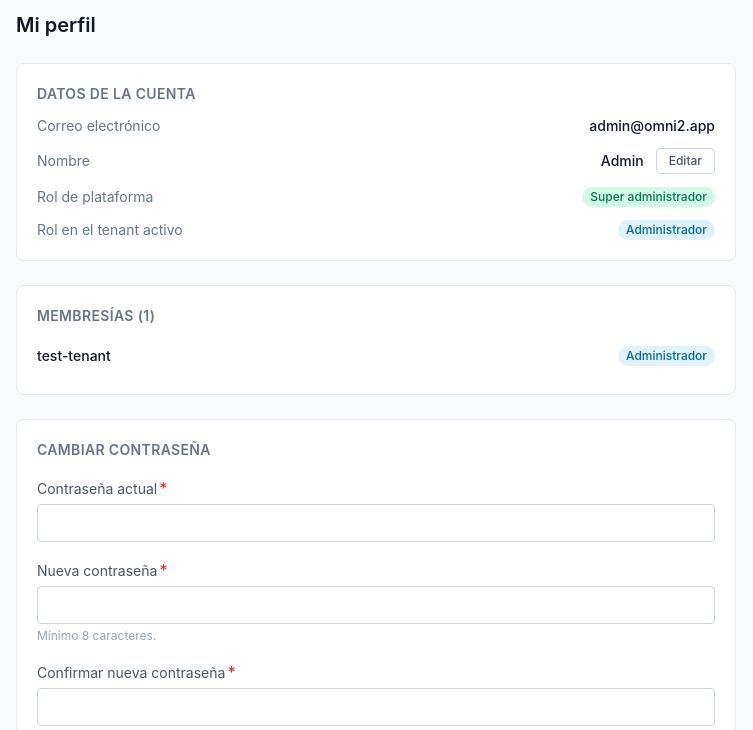
Test case: ProfileSection › muestra el error del store cuando updateMe no puede actualizar
Click the button "Editar".
click(685, 161)  # box x1=656 y1=148 x2=715 y2=174
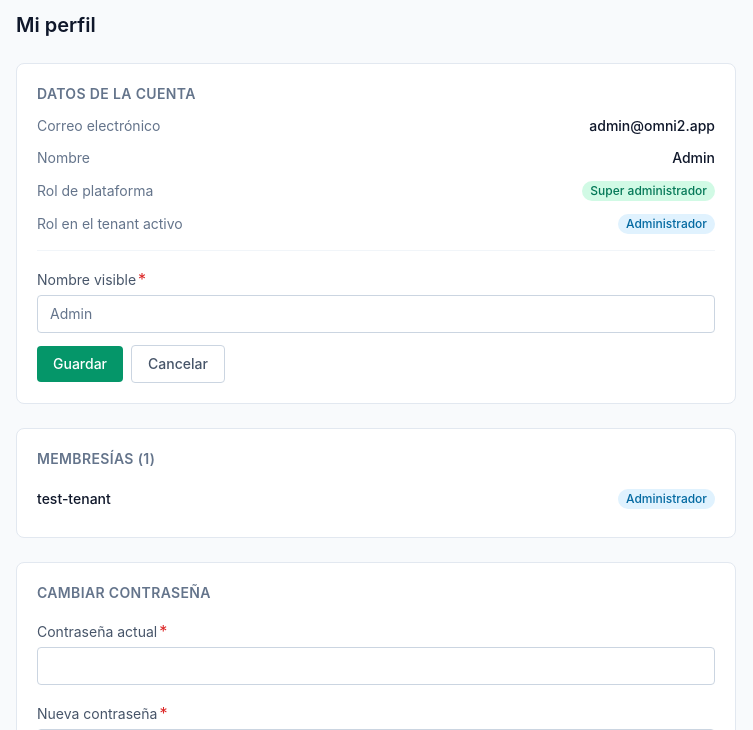
Replace the text in the field labelled "Nombre visible" with "Otro Nombre" at [376, 314], box x1=37 y1=295 x2=715 y2=333
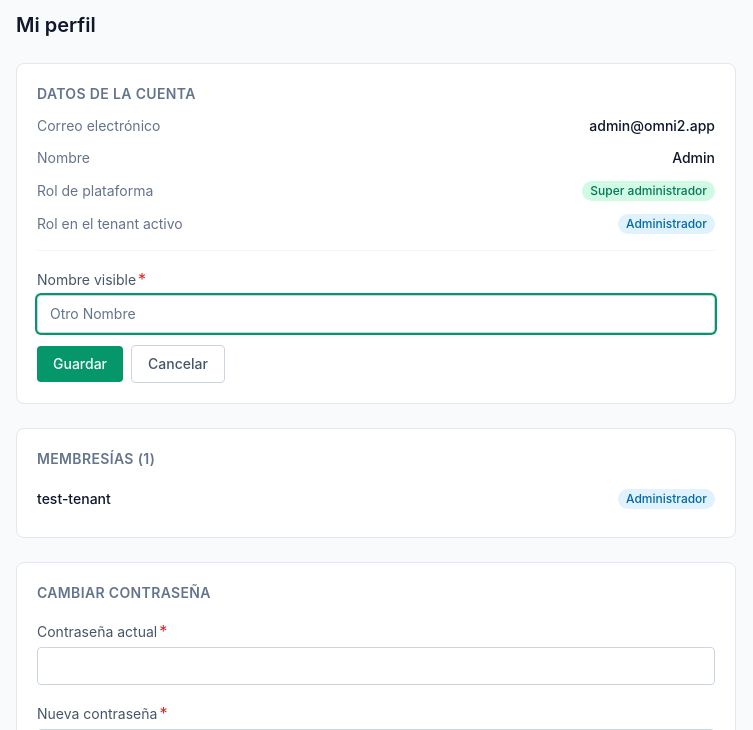
Click the button "Guardar".
click(80, 364)  # box x1=37 y1=346 x2=123 y2=382
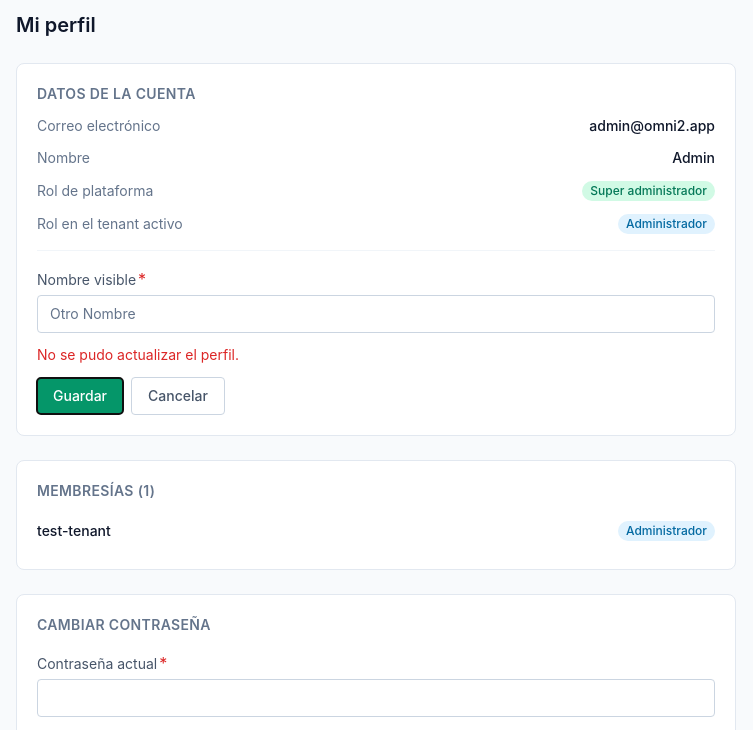
Now the message "No se pudo actualizar el perfil." is shown, box x1=37 y1=346 x2=239 y2=363
